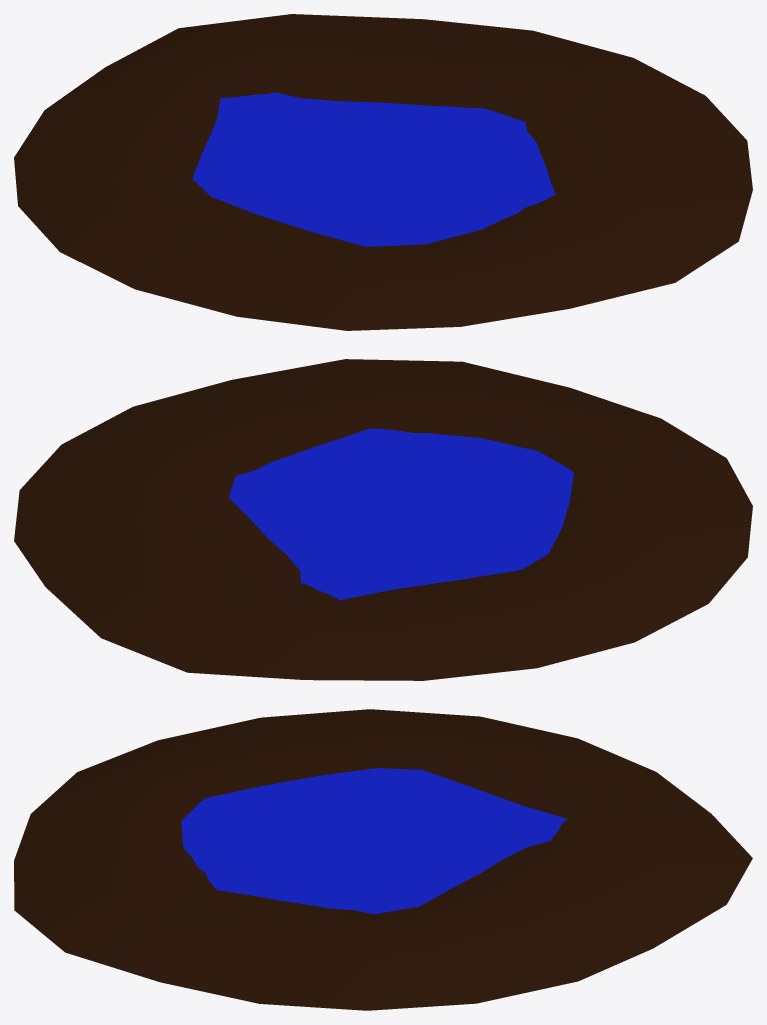
Rendered from Puddle.obj.
The picture shows the model from 3 angles, top to bottom: view 1: azimuth 30°, elevation 25°; view 2: azimuth 150°, elevation 25°; view 3: azimuth 270°, elevation 25°; orthographic projection. The views are drawn at different scales.
Parts seen in each view (by area): view 1: pCylinder61 Puddle, Puddle pDisc2; view 2: pCylinder61 Puddle, Puddle pDisc2; view 3: pCylinder61 Puddle, Puddle pDisc2.
Boxes of the visible parts, x1,y1,x2,y2 form: pCylinder61 Puddle: [14, 14, 752, 330]; Puddle pDisc2: [192, 92, 555, 246]; pCylinder61 Puddle: [14, 359, 752, 680]; Puddle pDisc2: [228, 428, 573, 600]; pCylinder61 Puddle: [14, 709, 752, 1010]; Puddle pDisc2: [181, 768, 567, 914].
Size of the model in its own units: 10.41 by 0.3048 by 10.78.
